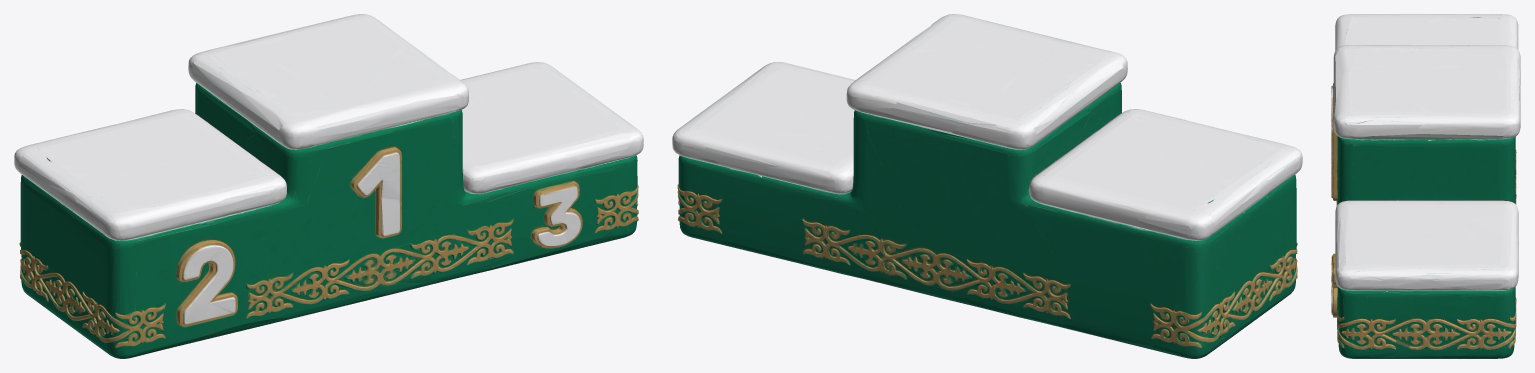
Rendered from podium.glb.
3 views of the same model, side by side, from view 1: azimuth 30°, elevation 25°; view 2: azimuth 150°, elevation 25°; view 3: azimuth 270°, elevation 25° (orthographic). The views are drawn at different scales.
Visible parts, largest first — view 1: output_unwrapped; view 2: output_unwrapped; view 3: output_unwrapped.
Part boxes in pixels (x1,y1,x2,y2): output_unwrapped: (14,14,643,358); output_unwrapped: (672,14,1302,358); output_unwrapped: (1331,14,1520,358).
Bounding box in the file's own units: 2 × 0.6983 × 0.7039.
Materials: 1 (1 with a texture image).
